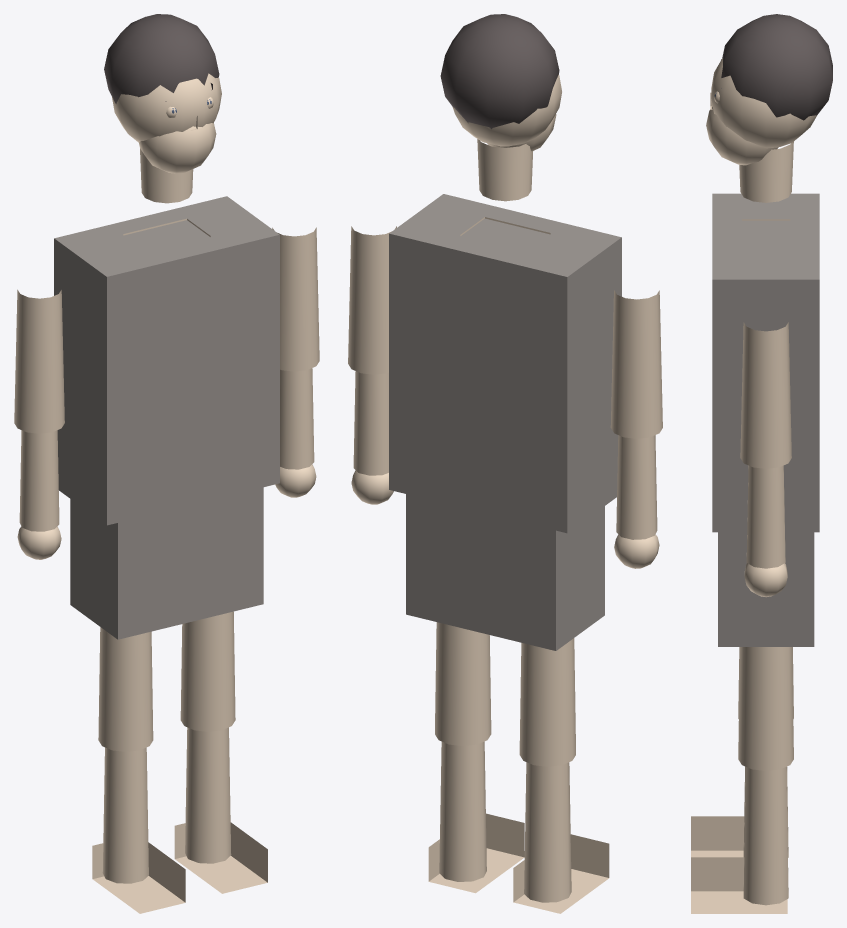
Rendered from body.glb.
The picture shows the model from 3 angles, left to right: view 1: azimuth 30°, elevation 25°; view 2: azimuth 150°, elevation 25°; view 3: azimuth 270°, elevation 25°; orthographic projection. The views are drawn at different scales.
Visible parts, largest first — view 1: Cloth, Skin, Hair; view 2: Cloth, Skin, Hair; view 3: Skin, Cloth, Hair.
Part boxes in pixels (left/top/right/bottom): Cloth: left=54, top=196, right=279, bottom=639; Skin: left=14, top=73, right=319, bottom=913; Hair: left=104, top=14, right=219, bottom=103; Cloth: left=389, top=194, right=621, bottom=650; Skin: left=348, top=74, right=662, bottom=913; Hair: left=440, top=14, right=559, bottom=129; Skin: left=691, top=58, right=816, bottom=913; Cloth: left=712, top=193, right=819, bottom=646; Hair: left=721, top=14, right=832, bottom=120.
Bounding box in the file's own units: 0.6539 × 1.77 × 0.2646.
